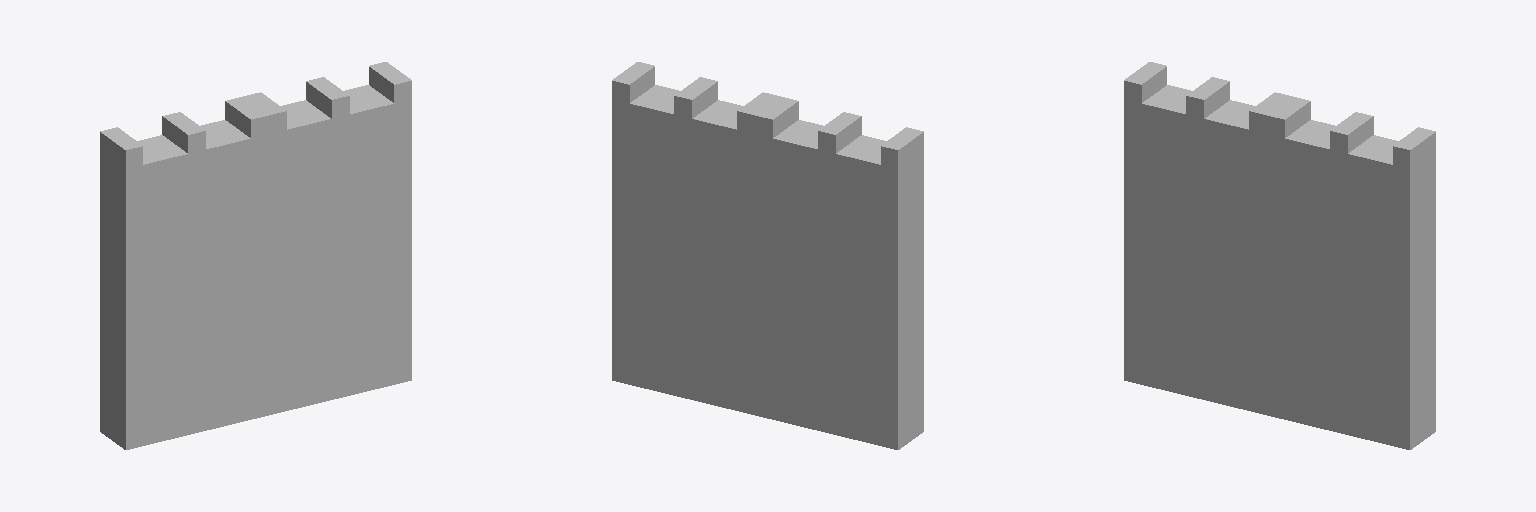
File: wall_1.obj
3 views of the same model, side by side, from view 1: azimuth 30°, elevation 25°; view 2: azimuth 150°, elevation 25°; view 3: azimuth 330°, elevation 25° (orthographic).
Visible parts, largest first — view 1: object 1; view 2: object 1; view 3: object 1.
Boxes of the visible parts, x1,y1,x2,y2 form: object 1: [100, 62, 411, 449]; object 1: [612, 62, 923, 449]; object 1: [1124, 62, 1435, 449].
Bounding box in the file's own units: 3.2 × 3.2 × 0.5.